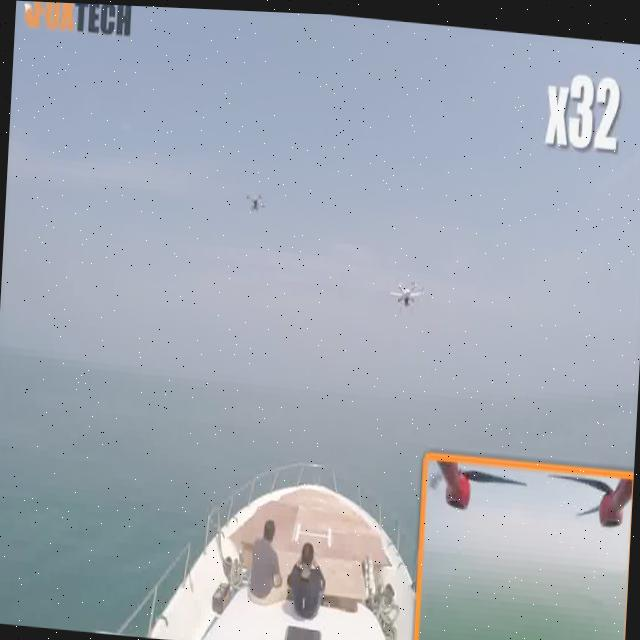drone: (383, 267, 430, 319), (236, 176, 274, 218)
